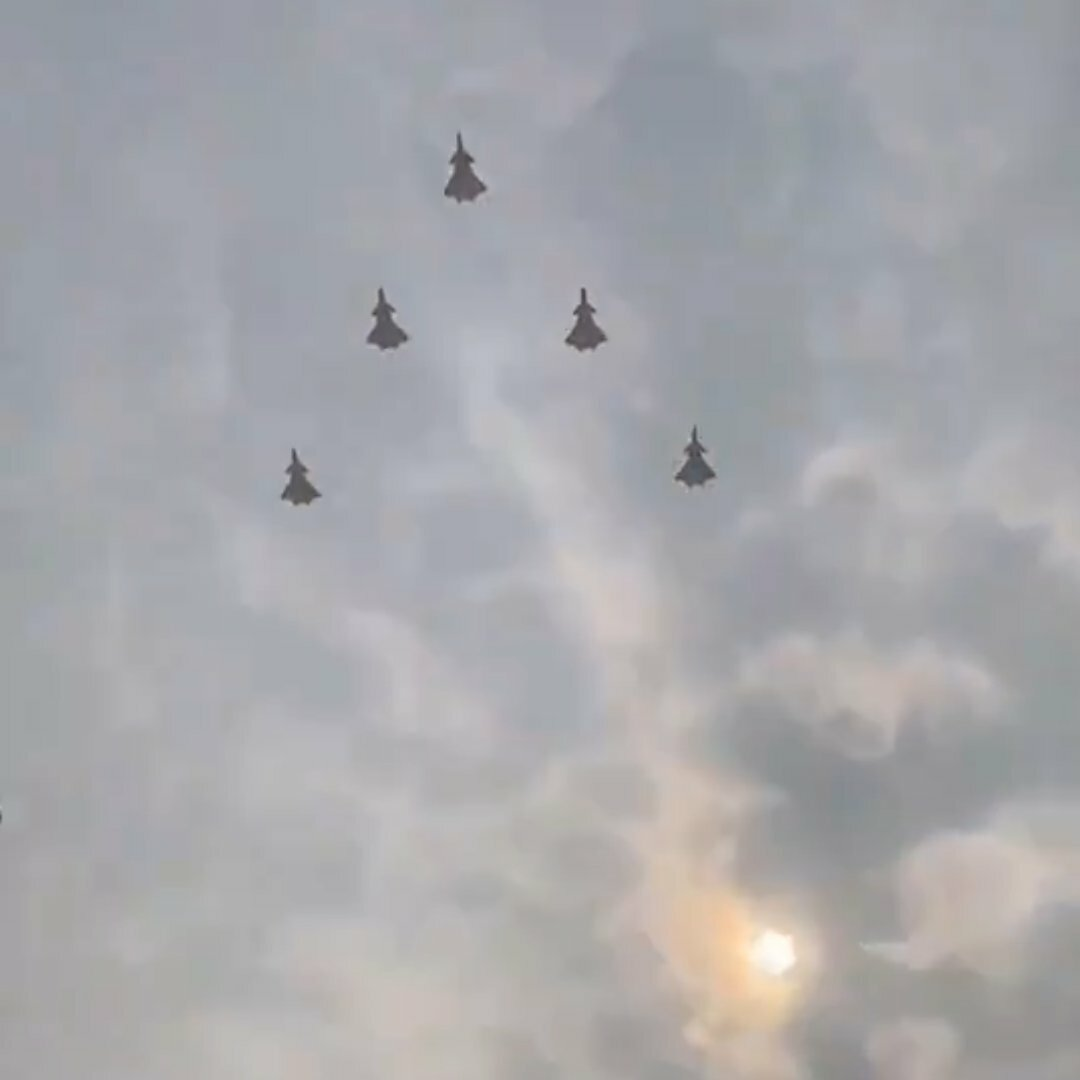J20: (442, 129, 489, 206), (363, 285, 412, 353), (562, 285, 609, 354), (673, 424, 718, 494), (279, 446, 324, 507)
